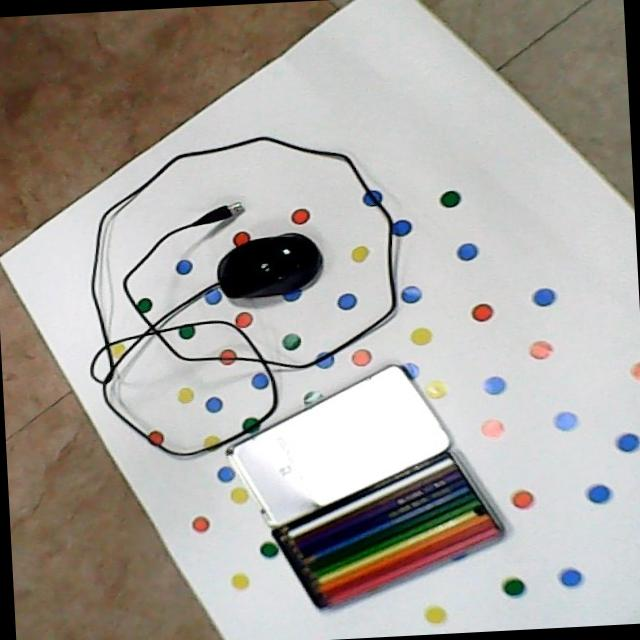color: (263, 443, 515, 621)
mouse: (212, 228, 331, 303)
